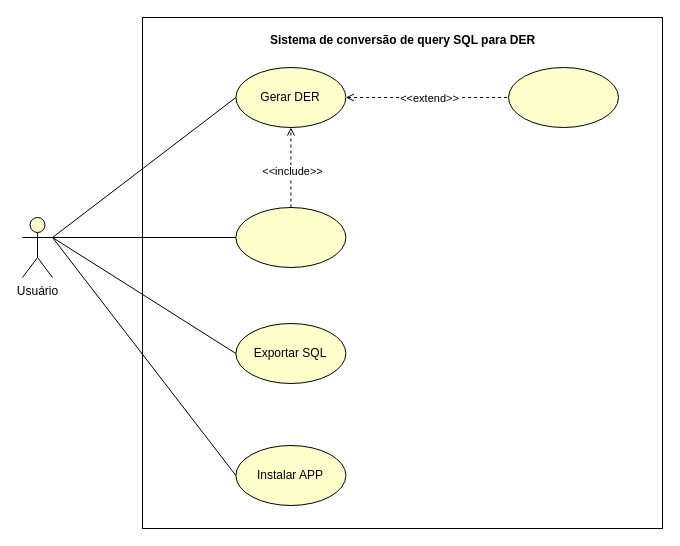
Some shapes in this 680 by 546 pixel diagram are drawn without their labels. Each missing label, with the centre of its shape:
"Exportar Imagem" belongs at point (563, 97).
"Importar SQL" belongs at point (290, 237).
